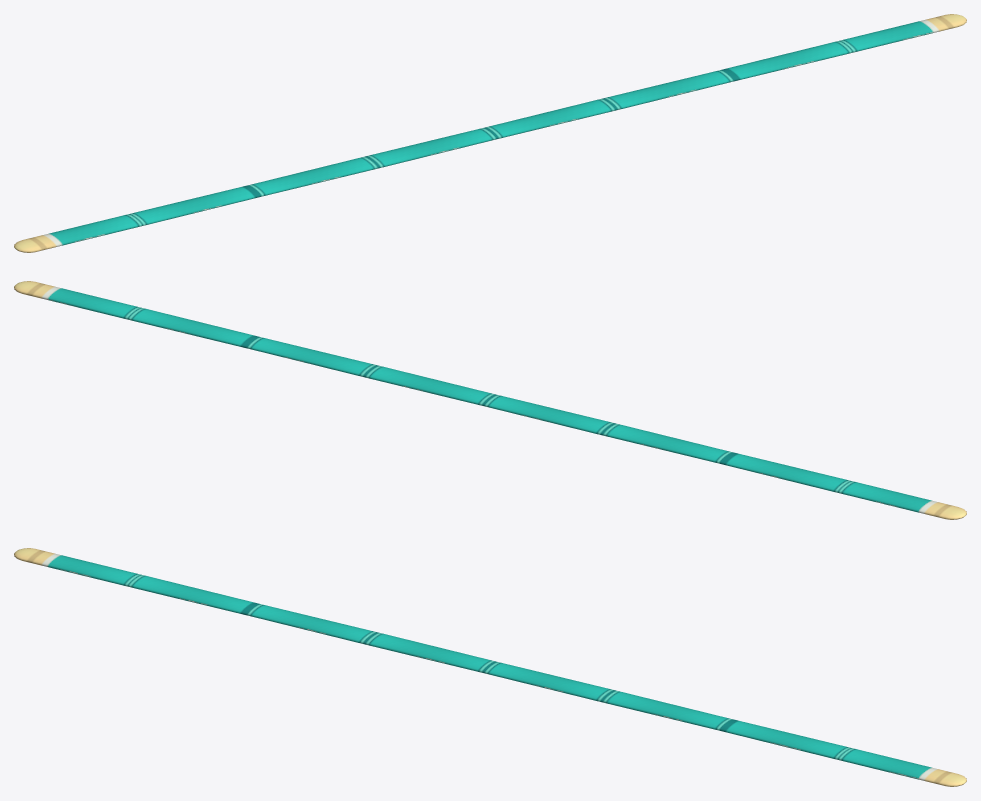
The model's file is sponge-bar.glb.
3 renders of one model, top to bottom at view 1: azimuth 30°, elevation 25°; view 2: azimuth 150°, elevation 25°; view 3: azimuth 330°, elevation 25°, orthographic.
Parts seen in each view (by area): view 1: Sponge bar; view 2: Sponge bar; view 3: Sponge bar.
Boxes of the visible parts, <box> form: Sponge bar: <box>14,14,966,252</box>; Sponge bar: <box>14,281,966,519</box>; Sponge bar: <box>14,548,966,786</box>.
Bounding box in the file's own units: 38.24 × 0.208 × 1.04.
Materials: 1 (1 with a texture image).
